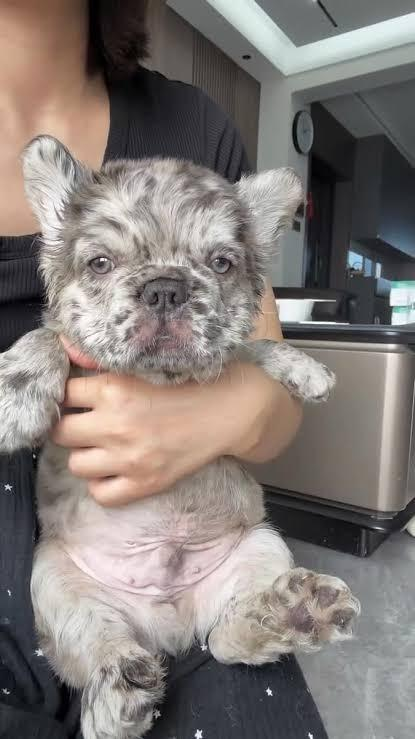puppy-dog: (1, 135, 360, 739)
